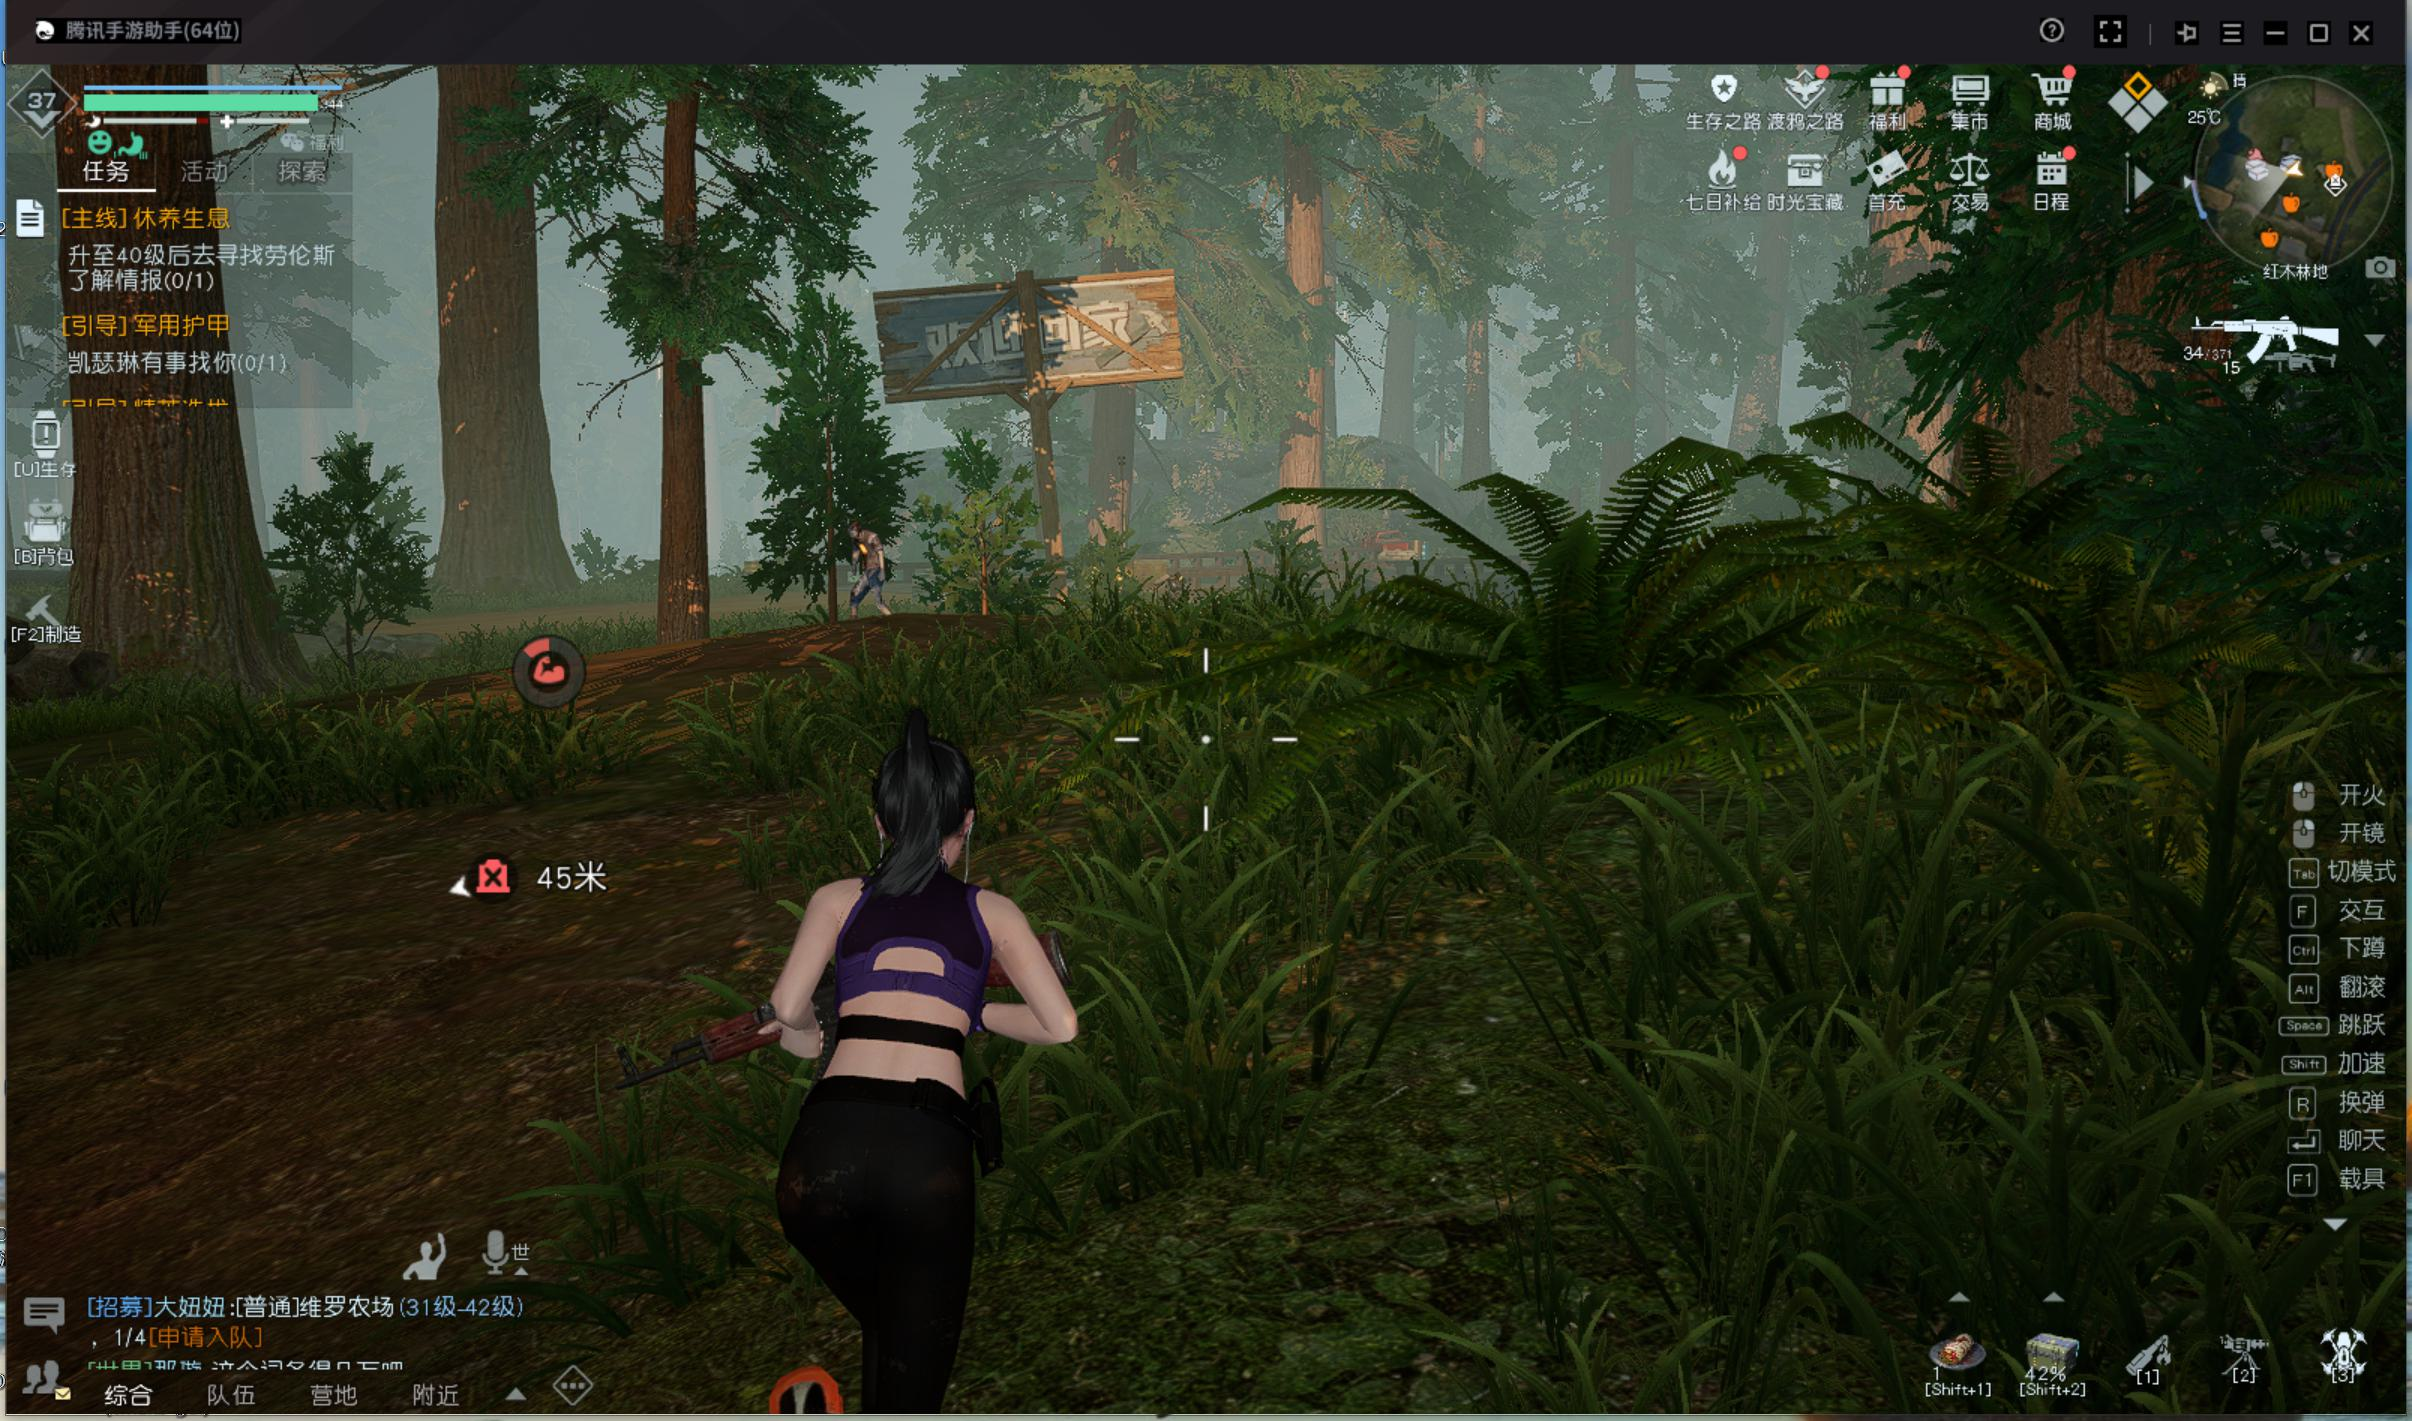tree: (416, 74, 572, 621), (628, 147, 710, 660), (1275, 193, 1335, 606)
